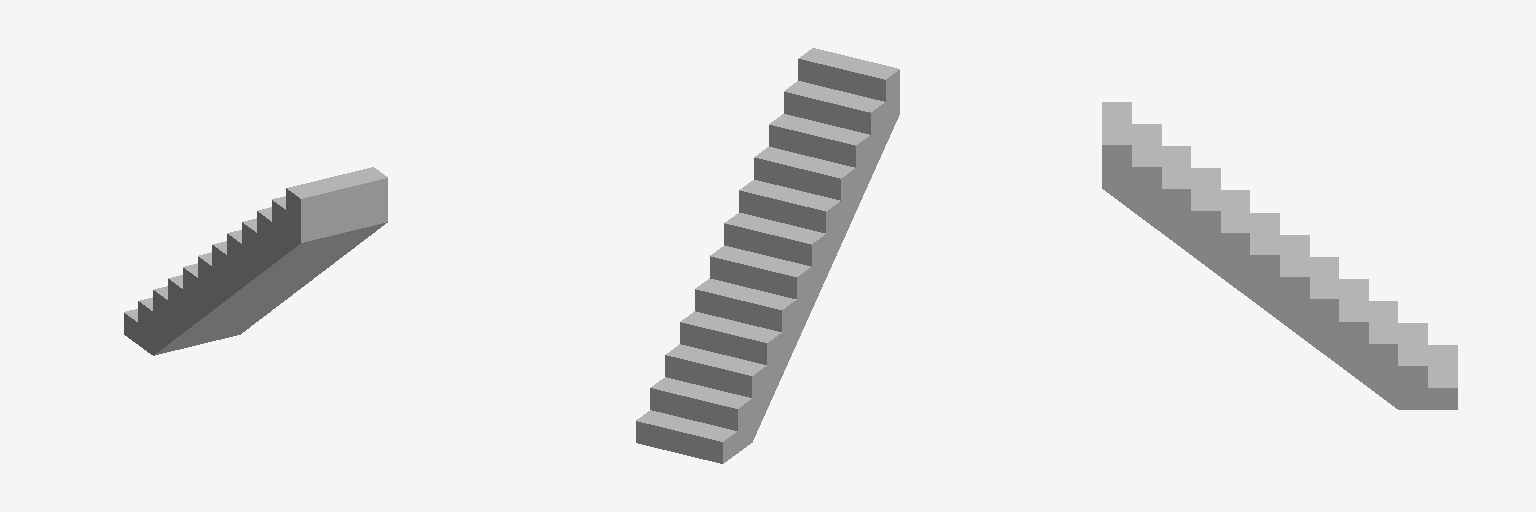
File: stairsStoneSlant.obj
3 views of the same model, side by side, from view 1: azimuth 30°, elevation 25°; view 2: azimuth 150°, elevation 25°; view 3: azimuth 270°, elevation 25° (orthographic).
Visible parts, largest first — view 1: stairsStoneSlant; view 2: stairsStoneSlant; view 3: stairsStoneSlant.
Boxes of the visible parts, <box> form: stairsStoneSlant: <box>124,167,387,355</box>; stairsStoneSlant: <box>636,48,899,463</box>; stairsStoneSlant: <box>1102,102,1457,409</box>.
Size of the model in its own units: 2.33 by 6.75 by 8.19.